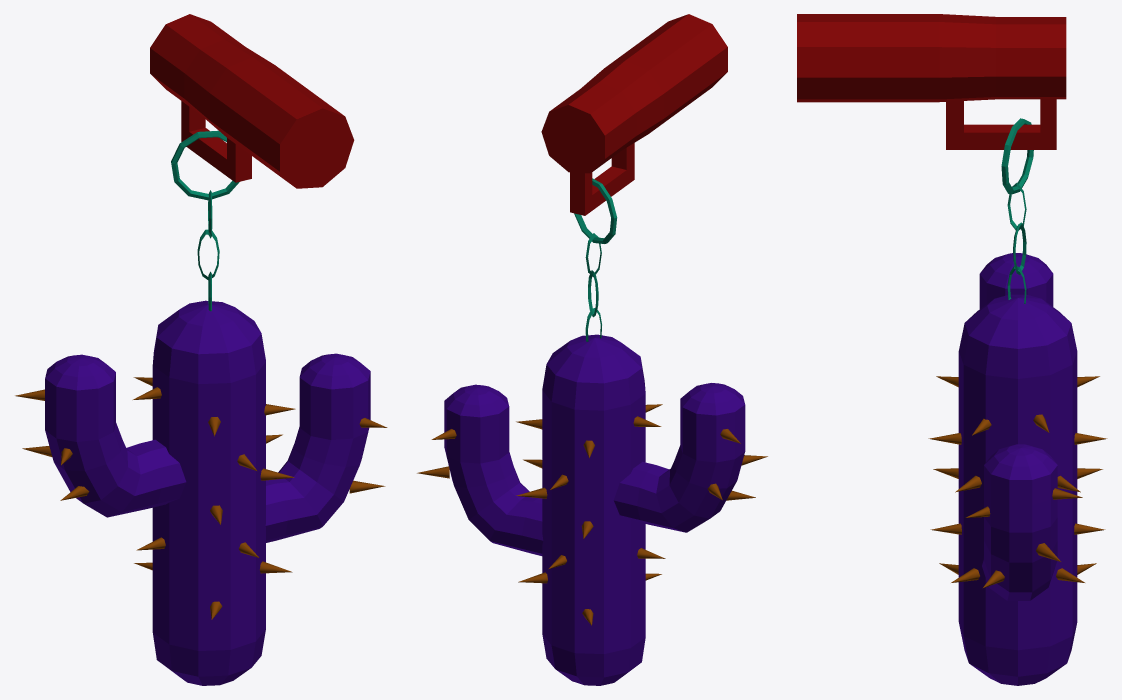
File: Cactus texture.fbx
3 views of the same model, side by side, from view 1: azimuth 30°, elevation 25°; view 2: azimuth 150°, elevation 25°; view 3: azimuth 270°, elevation 25° (orthographic). The views are drawn at different scales.
Parts seen in each view (by area): view 1: Charm_holder1 (×4); view 2: Charm_holder1 (×4); view 3: Charm_holder1 (×4).
Boxes of the visible parts, x1,y1,x2,y2 form: Charm_holder1 (×4): (15, 14, 387, 685); Charm_holder1 (×4): (417, 14, 767, 685); Charm_holder1 (×4): (797, 14, 1107, 685).
Bounding box in the file's own units: 6.62 × 11.73 × 4.98.
